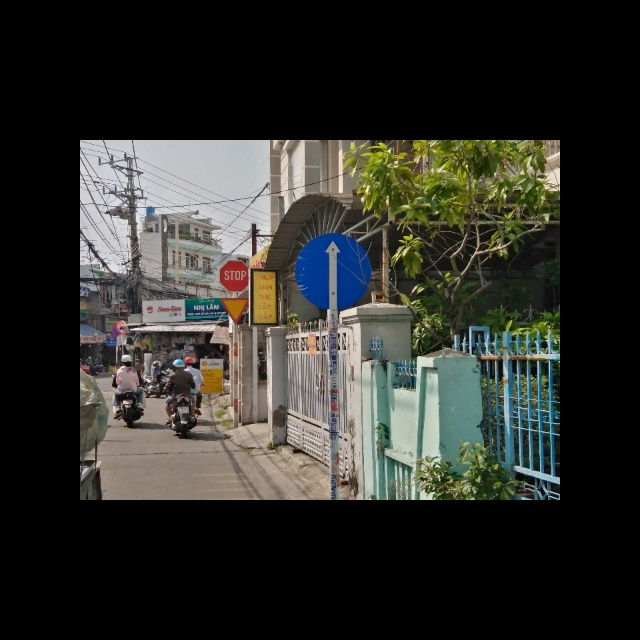Dừng lại: (219, 260, 250, 291)
Giao nhau với đường ưu tiên: (219, 295, 248, 322)
Đường một chiều: (293, 232, 371, 311)
